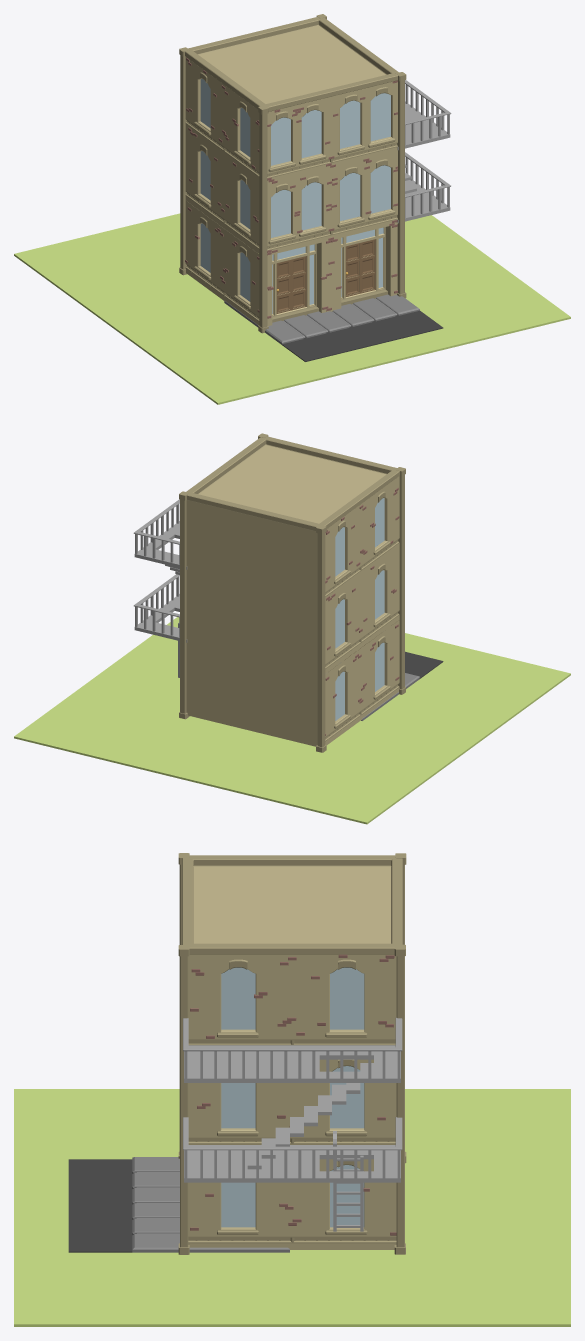
The model's file is stylized_poly_house.glb.
3 views of the same model, one above another, from view 1: azimuth 30°, elevation 25°; view 2: azimuth 150°, elevation 25°; view 3: azimuth 270°, elevation 25° (orthographic). The views are drawn at different scales.
Visible parts, largest first — view 1: roof; view 2: roof; view 3: roof.
Part boxes in pixels (bbox=[...]): roof: bbox=[14, 14, 570, 404]; roof: bbox=[14, 433, 570, 824]; roof: bbox=[14, 853, 570, 1326].
Bounding box in the file's own units: 10.23 × 6.24 × 10.23.
